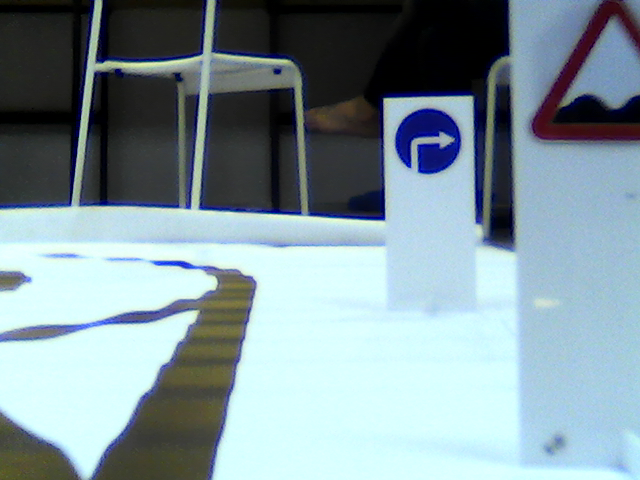Nerov: (536, 1, 637, 148)
Right: (394, 106, 460, 174)
